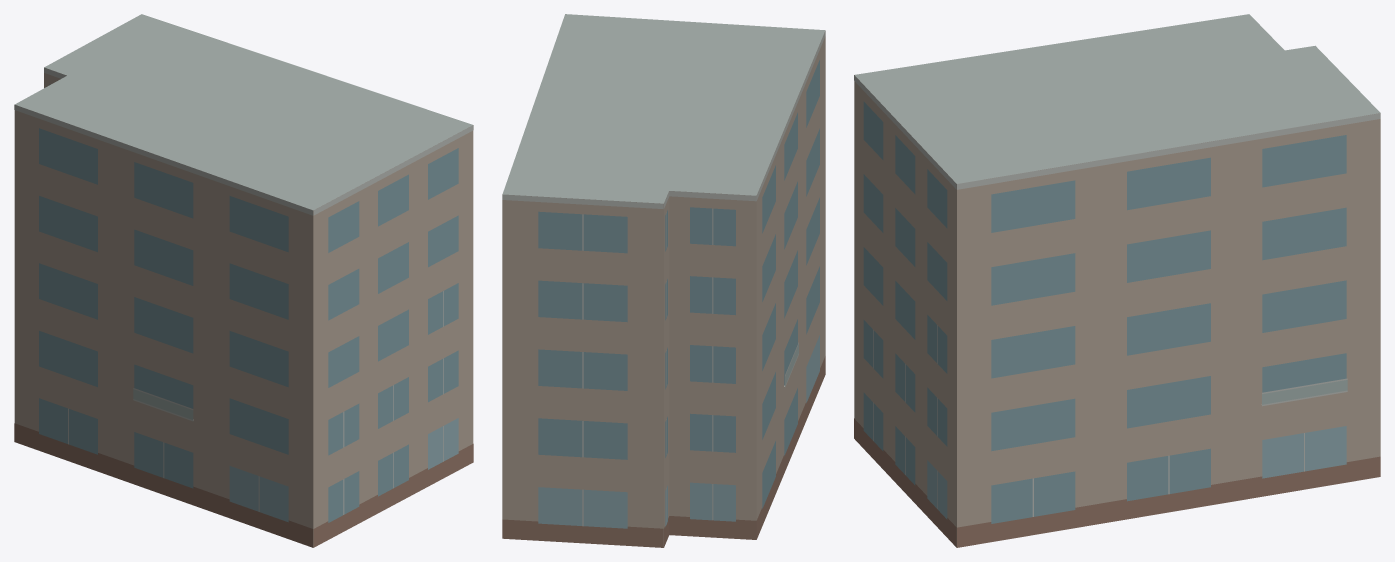
File: survey-upis-32768469.glb
3 views of the same model, side by side, from view 1: azimuth 30°, elevation 25°; view 2: azimuth 150°, elevation 25°; view 3: azimuth 270°, elevation 25° (orthographic). The views are drawn at different scales.
Parts seen in each view (by area): view 1: survey-upis-32768469.tmp; view 2: survey-upis-32768469.tmp; view 3: survey-upis-32768469.tmp.
Boxes of the visible parts, box(x1,y1,x2,y2) form: survey-upis-32768469.tmp: box(14, 14, 473, 547); survey-upis-32768469.tmp: box(502, 14, 825, 547); survey-upis-32768469.tmp: box(854, 14, 1380, 547).
Size of the model in its own units: 15.3 by 15.25 by 20.01.
